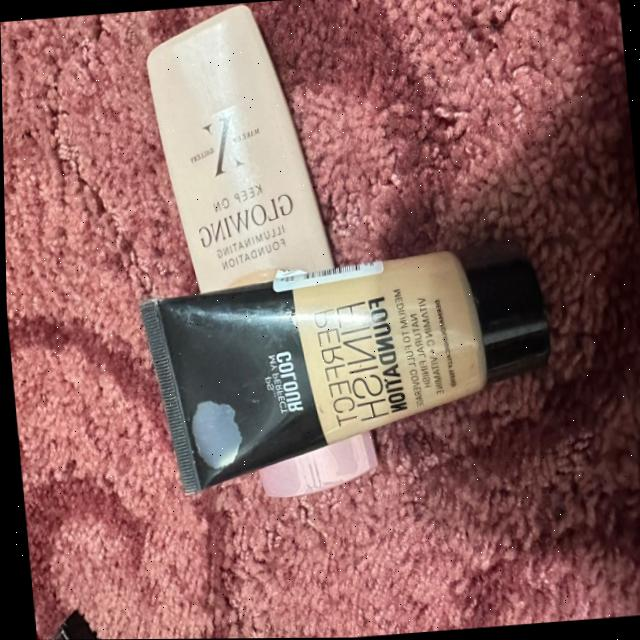foundation: (121, 225, 567, 508), (117, 0, 311, 291)
